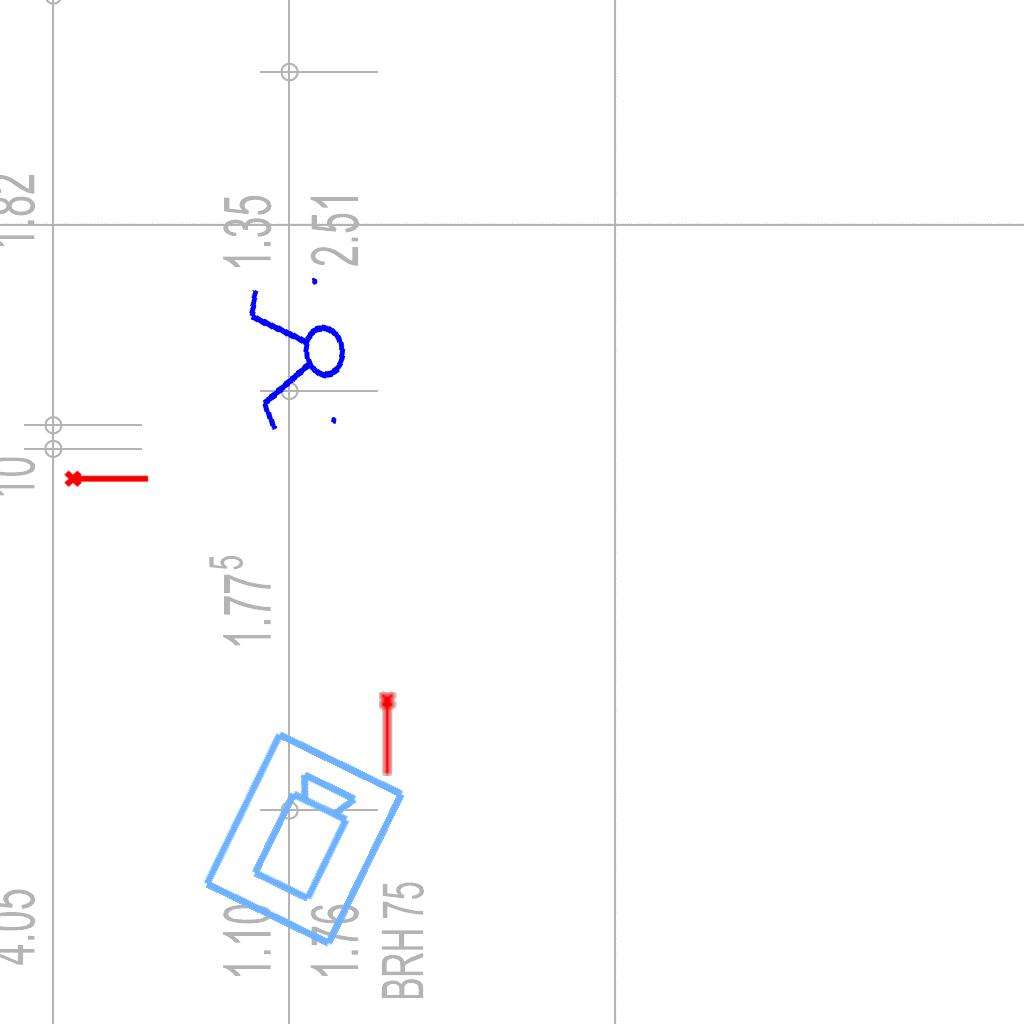ASR_Ansaugoeffnung: (377, 690, 400, 778), (63, 466, 151, 489)
KFO_Kamera_mit_Festobjektiv: (195, 724, 415, 956)
Serienschalter: (239, 266, 359, 446)
